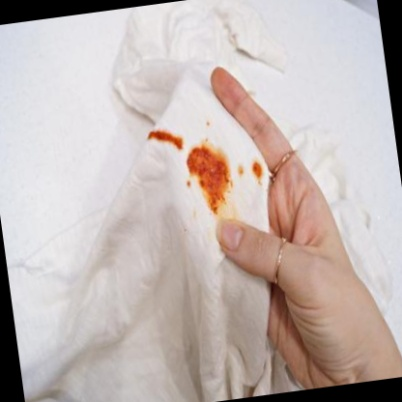kimchi: (184, 142, 234, 209), (146, 122, 189, 152), (247, 159, 268, 183), (236, 162, 247, 178), (182, 176, 191, 189), (203, 134, 213, 145), (180, 222, 191, 232), (205, 117, 212, 122)
